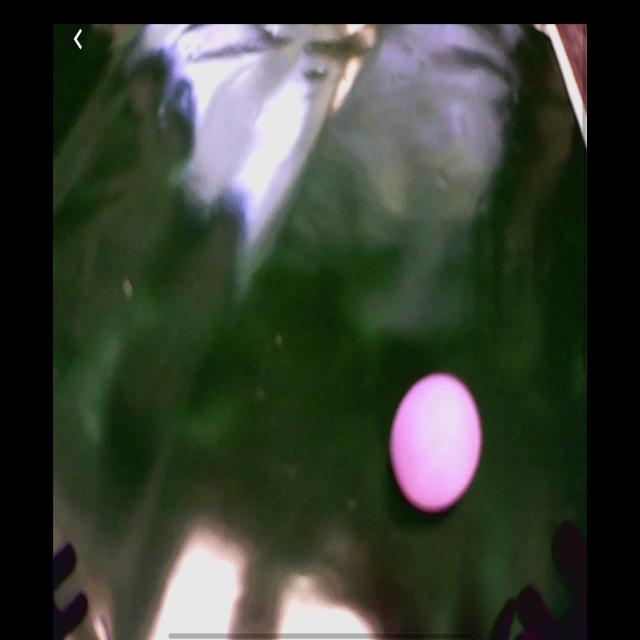ball: (390, 370, 485, 517)
